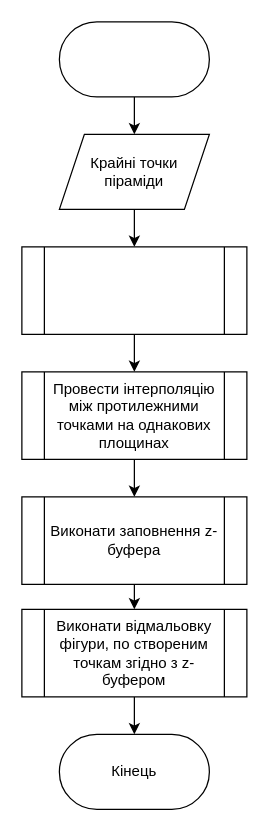
Image size: 269x831. Some labels were removed from this diagram. Here are the shapes that lost their labels. From the top down, the centre of each, then its label:
At [133,59]: "Початок".
At [134,290]: "Провести інтерполяцію між кожними двома точками".
